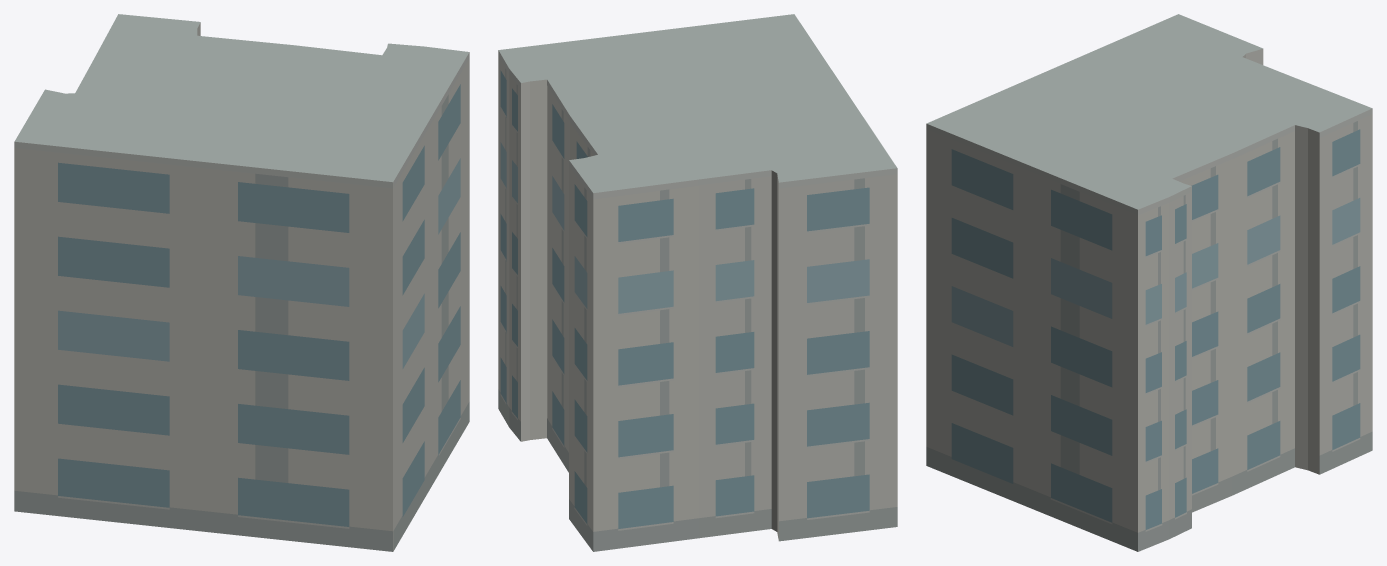
The model's file is survey-upis-32885042.glb.
3 views of the same model, side by side, from view 1: azimuth 30°, elevation 25°; view 2: azimuth 150°, elevation 25°; view 3: azimuth 270°, elevation 25° (orthographic). The views are drawn at different scales.
Parts seen in each view (by area): view 1: survey-upis-32885042.tmp; view 2: survey-upis-32885042.tmp; view 3: survey-upis-32885042.tmp.
Part boxes in pixels (x1,y1,x2,y2): survey-upis-32885042.tmp: (14, 14, 469, 551); survey-upis-32885042.tmp: (498, 14, 897, 551); survey-upis-32885042.tmp: (926, 14, 1372, 551).
Size of the model in its own units: 17.67 by 14.4 by 17.02.
